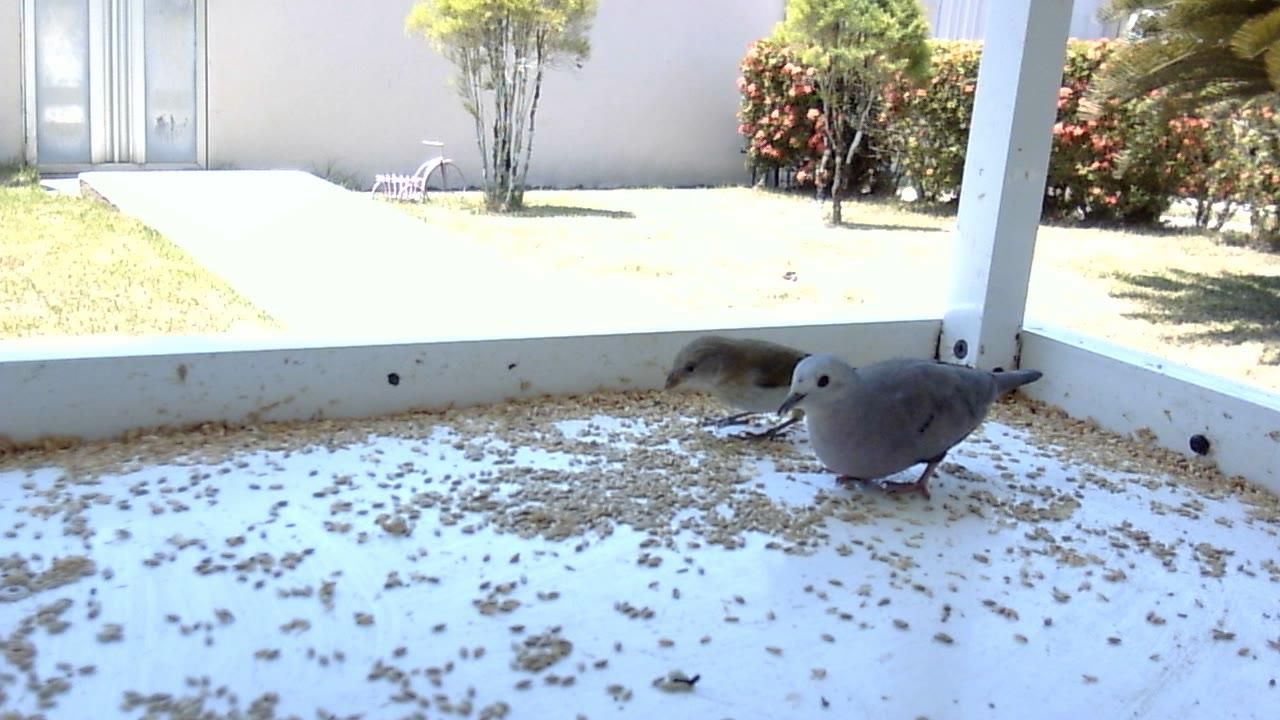canario_do_amazonas: (664, 336, 818, 448)
rolinha: (778, 353, 1046, 504)
